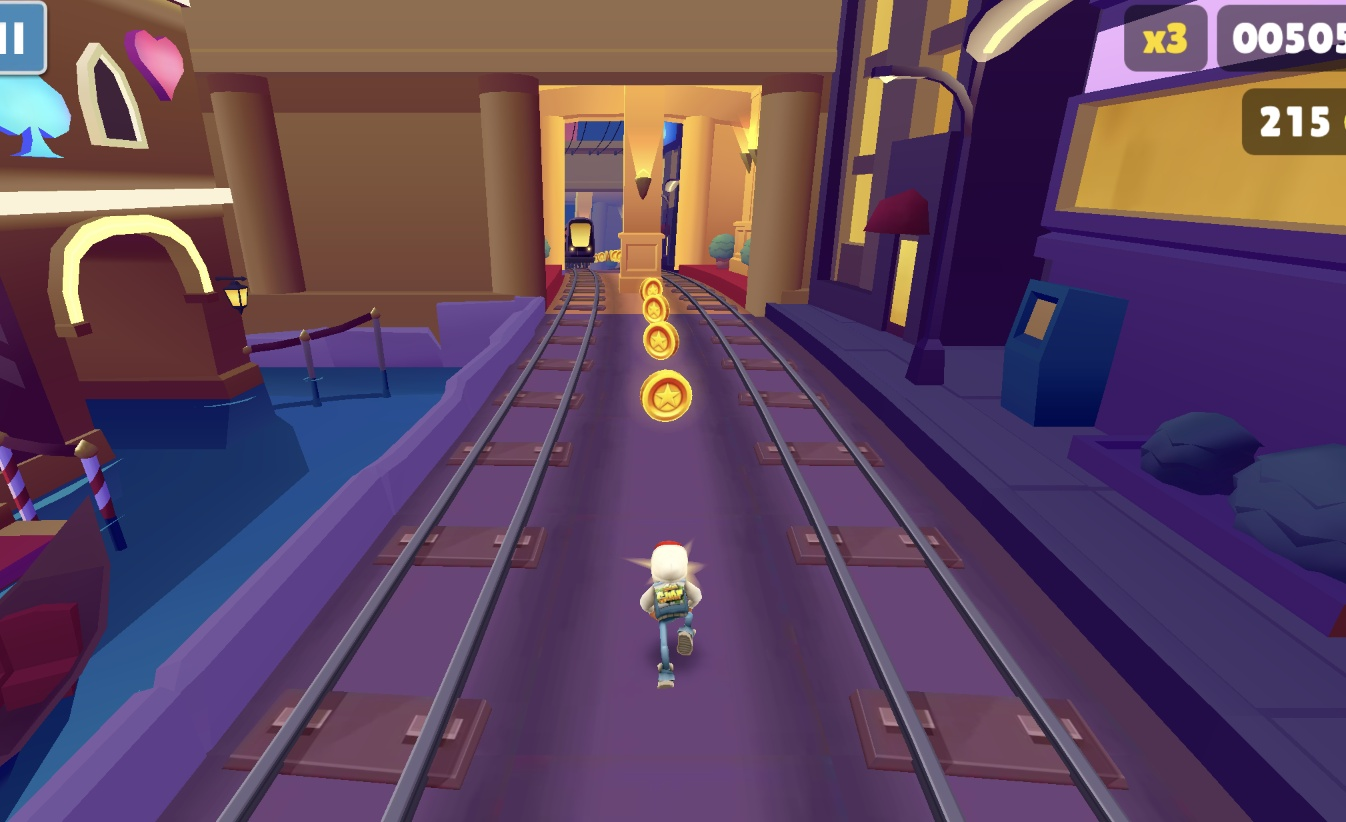pillar: (620, 86, 668, 282), (574, 194, 600, 268)
train: (568, 214, 596, 268)
